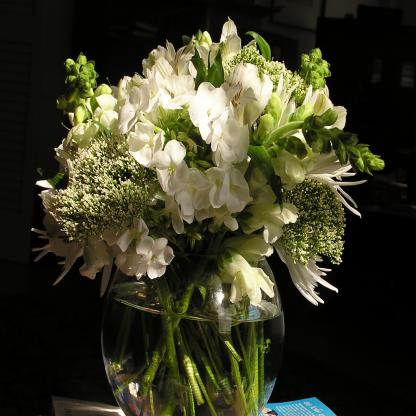vase: (102, 257, 286, 415)
